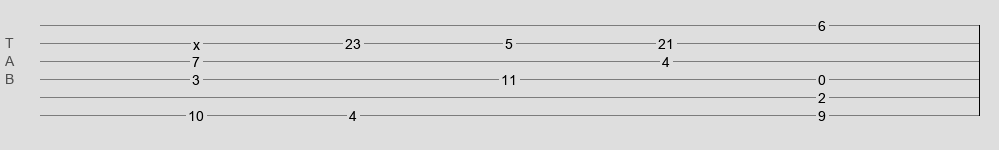0: (818, 72, 826, 82)
10: (188, 108, 204, 118)
11: (501, 72, 517, 82)
2: (818, 90, 826, 100)
21: (658, 36, 674, 46)
23: (345, 36, 361, 46)
3: (192, 72, 200, 82)
4: (349, 108, 357, 118), (662, 54, 670, 64)
5: (505, 36, 513, 46)
6: (818, 18, 826, 28)
7: (192, 54, 200, 64)
9: (818, 108, 826, 118)
x: (193, 37, 200, 45)
